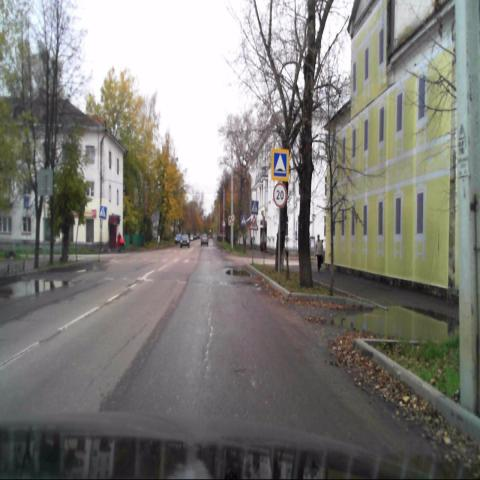1_23: (249, 214, 258, 230)
3_24: (273, 183, 287, 208)
5_19_1: (250, 199, 258, 214), (99, 204, 107, 218)
5_20: (270, 148, 290, 182)
